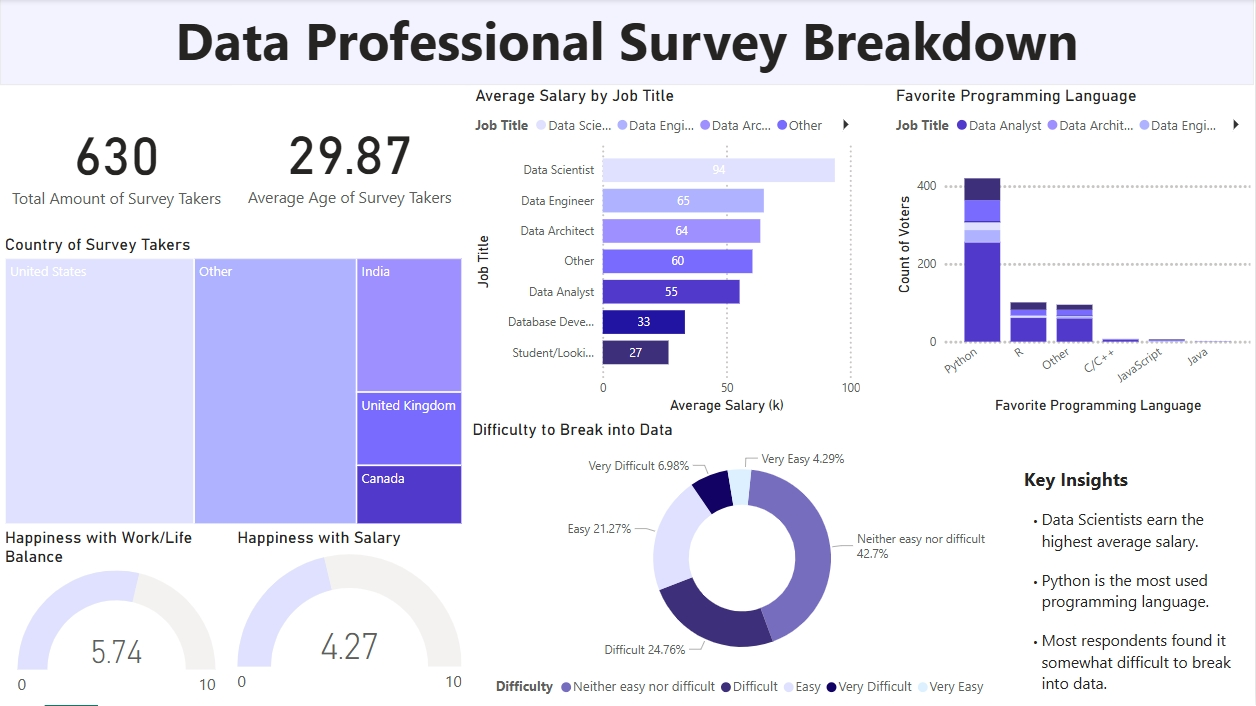

Layout of this report page (visuals, bound fields, positions):
{"tool":"powerbi","page":{"name":"Page 1","canvas":[1280,720],"ordinal":0},"visuals":[{"type":"textbox","box":[0,0,1278.7,88.3],"z":0},{"type":"card","fields":{"Values":["Count(Data Professional Survey.Unique ID)"]},"box":[0,90.3,237.3,148.5],"z":1000},{"type":"card","fields":{"Values":["Avg(Data Professional Survey.Q10 - Current Age)"]},"box":[237.3,88.8,238.8,150],"z":2000},{"type":"barChart","title":"Average Salary by Job Title","fields":{"Category":["Data Professional Survey.Q1 - Which Title Best Fits your Current Role?.1"],"Y":["Avg(Data Professional Survey.Average Salary)"],"Series":["Data Professional Survey.Q1 - Which Title Best Fits your Current Role?.1"]},"box":[479.5,88.3,402.4,339.3],"z":3000},{"type":"columnChart","title":"Favorite Programming Language","fields":{"Category":["Data Professional Survey.Q5 - Favorite Programming Language.1"],"Y":["CountNonNull(Data Professional Survey.Unique ID)"],"Series":["Data Professional Survey.Q1 - Which Title Best Fits your Current Role?.1"]},"box":[908.5,88.8,371.3,339.2],"z":4000},{"type":"treemap","title":"Country of Survey Takers","fields":{"Group":["Data Professional Survey.Q11 - Which Country do you live in?.1"],"Values":["CountNonNull(Data Professional Survey.Q11 - Which Country do you live in?.1)"]},"box":[0,239.3,475.7,300.5],"z":5000},{"type":"gauge","title":"Happiness with Work/Life Balance","fields":{"Y":["Avg(Data Professional Survey.Q6 - How Happy are you in your Current Position with the following? (Work/Life Balance))"],"MinValue":["Min(Data Professional Survey.Q6 - How Happy are you in your Current Position with the following? (Work/Life Balance))"],"MaxValue":["Max(Data Professional Survey.Q6 - How Happy are you in your Current Position with the following? (Work/Life Balance))"]},"box":[0,538.7,237.3,182],"z":6000},{"type":"gauge","title":"Happiness with Salary","fields":{"Y":["Avg(Data Professional Survey.Q6 - How Happy are you in your Current Position with the following? (Salary))"],"MinValue":["Min(Data Professional Survey.Q6 - How Happy are you in your Current Position with the following? (Salary))"],"MaxValue":["Max(Data Professional Survey.Q6 - How Happy are you in your Current Position with the following? (Salary))"]},"box":[237.3,538.7,238.8,182],"z":7000},{"type":"donutChart","title":"Difficulty to Break into Data","fields":{"Category":["Data Professional Survey.Q7 - How difficult was it for you to break into Data?"],"Y":["CountNonNull(Data Professional Survey.Q7 - How difficult was it for you to break into Data?)"]},"box":[477,428.4,559.8,291.6],"z":8000},{"type":"textbox","box":[1038.9,471.1,241.2,249.6],"z":8001}]}

Visuals, with their boxes in screenshot pixels (x1, y1, x2, y2), scaled from the page's 1280x720 canvas onto the 1256x706 screenshot:
textbox: detection(0, 0, 1255, 87)
card - Count(Data Professional Survey.Unique ID): detection(0, 89, 233, 234)
card - Avg(Data Professional Survey.Q10 - Current Age): detection(233, 87, 467, 234)
"Average Salary by Job Title" barChart: detection(471, 87, 865, 419)
"Favorite Programming Language" columnChart: detection(891, 87, 1255, 420)
"Country of Survey Takers" treemap: detection(0, 235, 467, 529)
"Happiness with Work/Life Balance" gauge: detection(0, 528, 233, 705)
"Happiness with Salary" gauge: detection(233, 528, 467, 705)
"Difficulty to Break into Data" donutChart: detection(468, 420, 1017, 705)
textbox: detection(1019, 462, 1255, 705)
